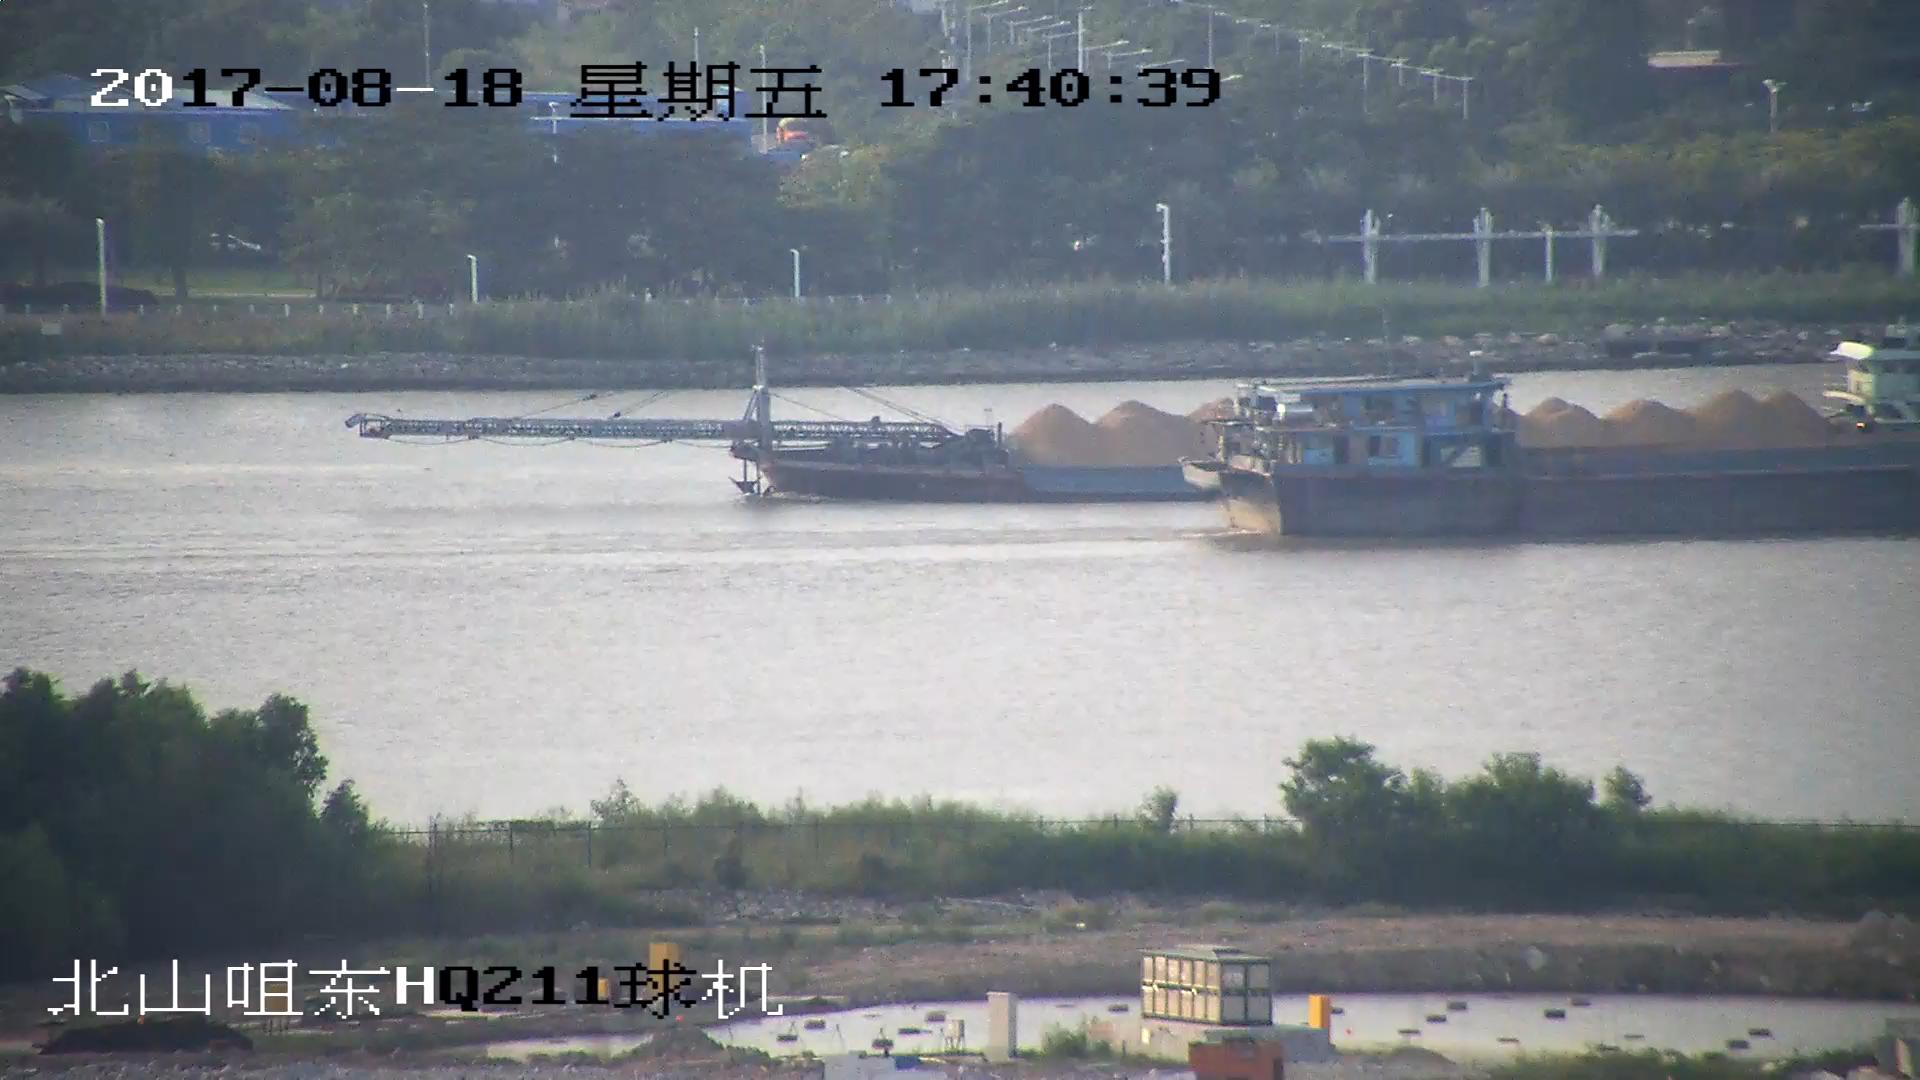bulk cargo carrier: (1191, 377, 1920, 543)
ore carrier: (349, 345, 1919, 505)
